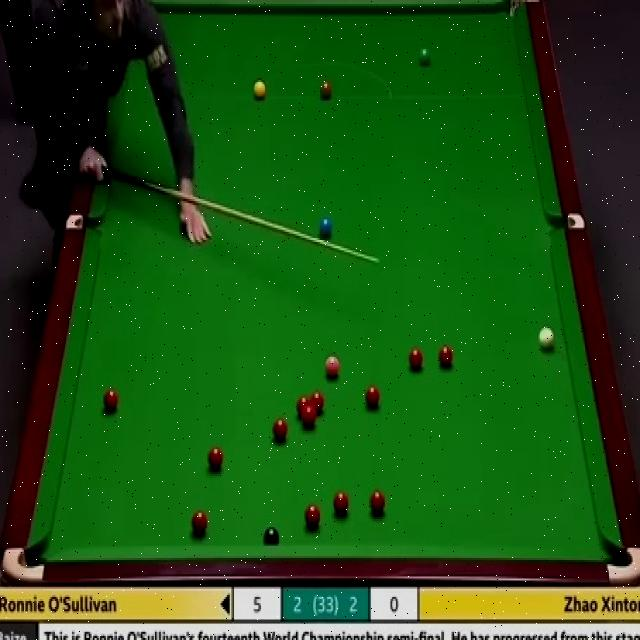black-ball: (263, 527, 280, 546)
blue-ball: (317, 213, 333, 240)
brown-ball: (318, 78, 332, 102)
green-ball: (416, 48, 432, 67)
pink-ball: (324, 351, 340, 379)
red-ball: (103, 388, 121, 416), (407, 346, 424, 375), (191, 509, 208, 536), (369, 489, 386, 516), (207, 445, 223, 473), (333, 491, 349, 517), (364, 384, 380, 410), (305, 504, 321, 529), (310, 391, 325, 417), (272, 418, 288, 442), (438, 346, 453, 371), (302, 408, 316, 429), (297, 396, 310, 416)
white-ball: (537, 324, 555, 354)
yellow-ball: (252, 79, 266, 99)
